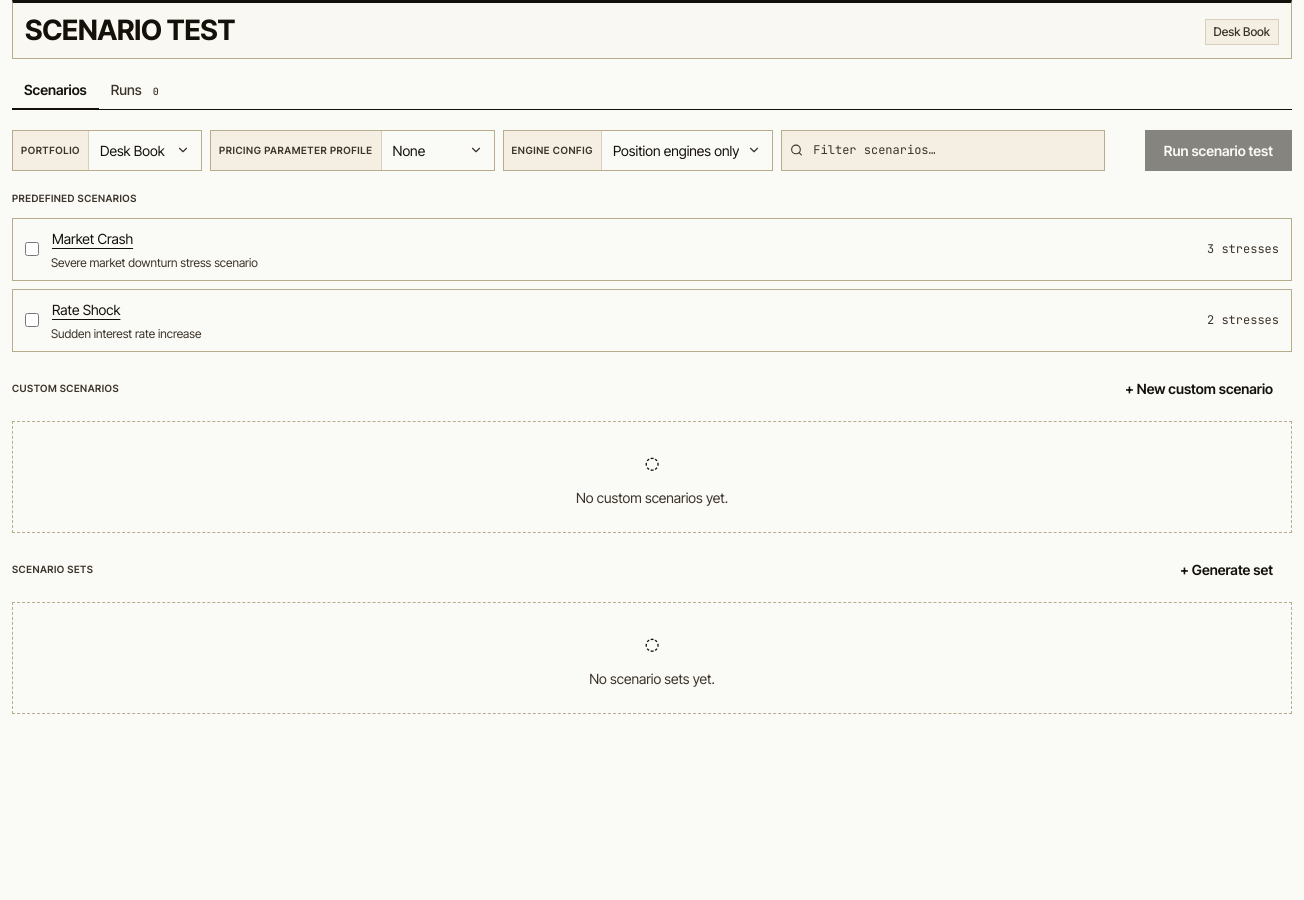
ScenarioTestLive › filters predefined scenarios by name and description
Expected: the button "Market Crash" is shown, [51,227,1199,250]
Type "rate" into the search field labelled "Filter scenarios…" at point(954, 150), box [811,140,1096,160]
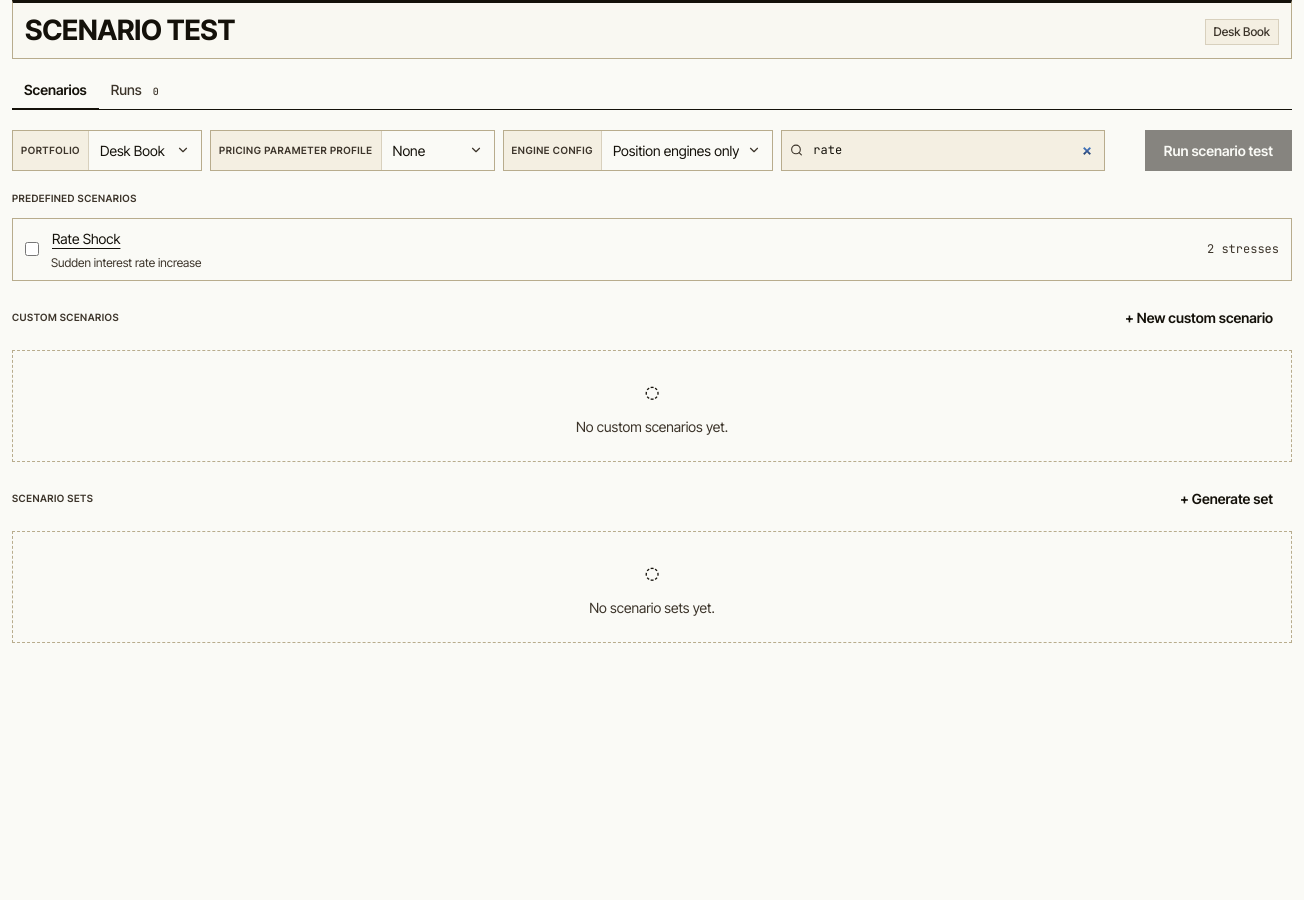
Expected: the button "Rate Shock" is shown, [51,227,1199,250]
Expected: the button "Market Crash" is gone
